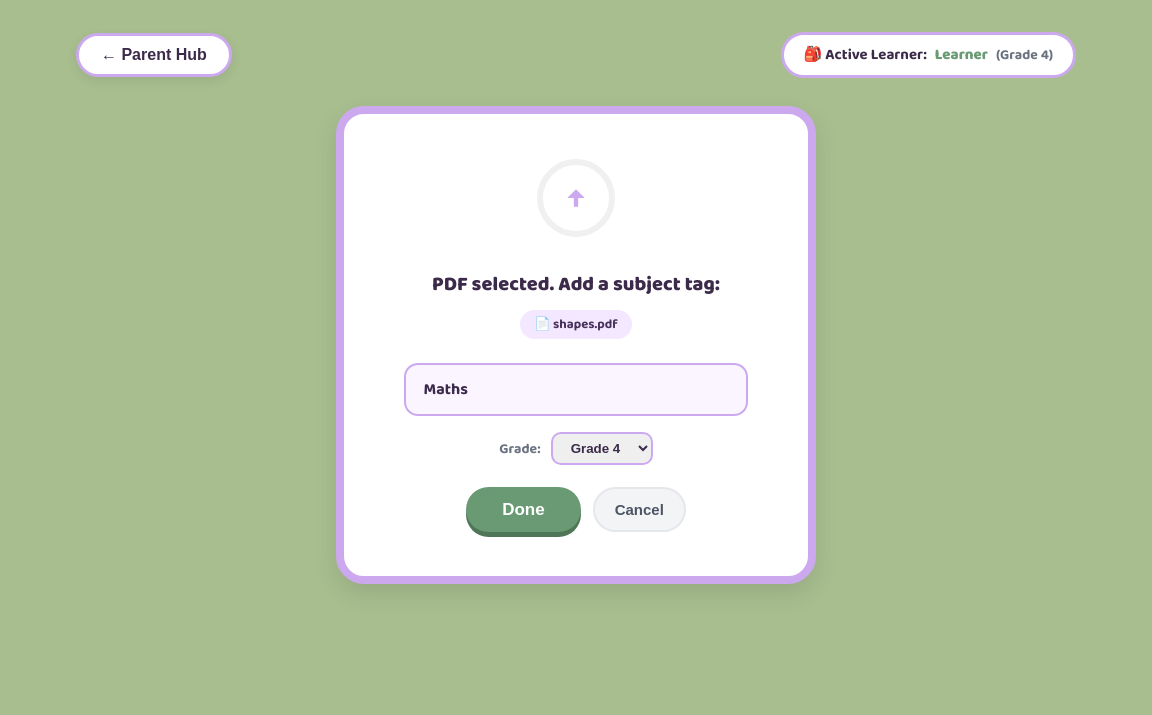
Scenario: Curriculum upload results › shows saved textbooks and chapters after upload and after reopening the page
The width and height of the screenshot is (1152, 715).
Earlier steps of the test are not shown.
Later steps or results of the test are not shown.
Click the button "Done": (523, 510) [466,487,581,532]
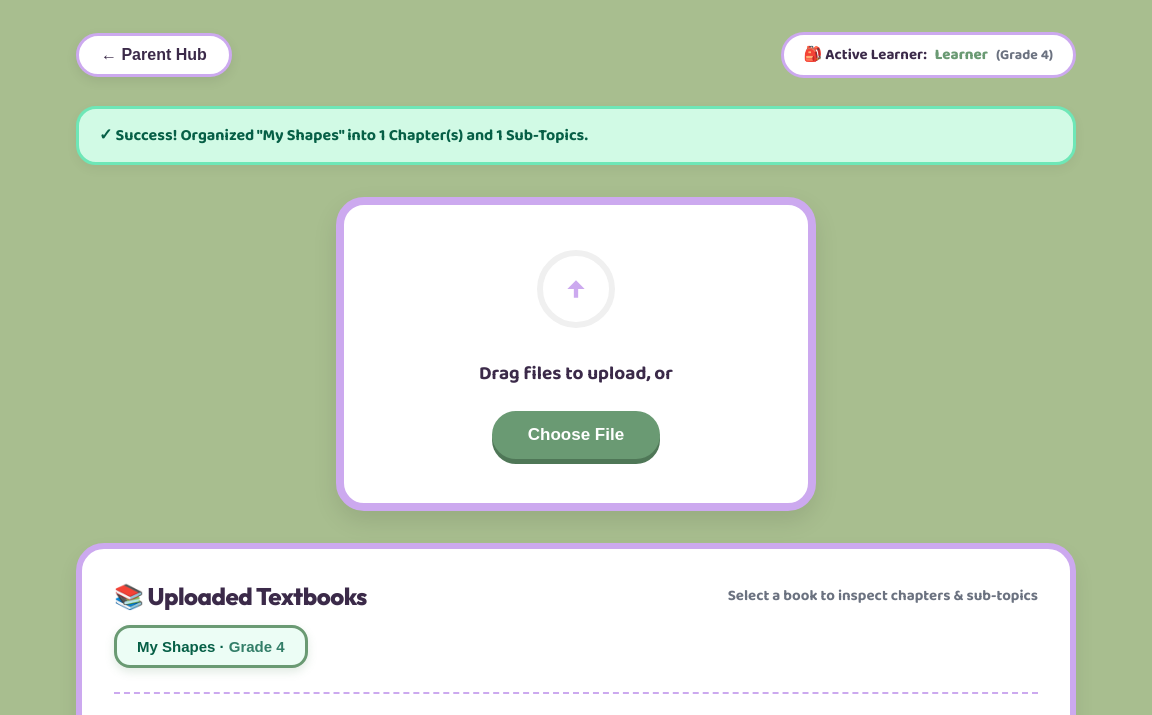
Now the heading "📚 Uploaded Textbooks" is shown, box [114,581,367,611]
